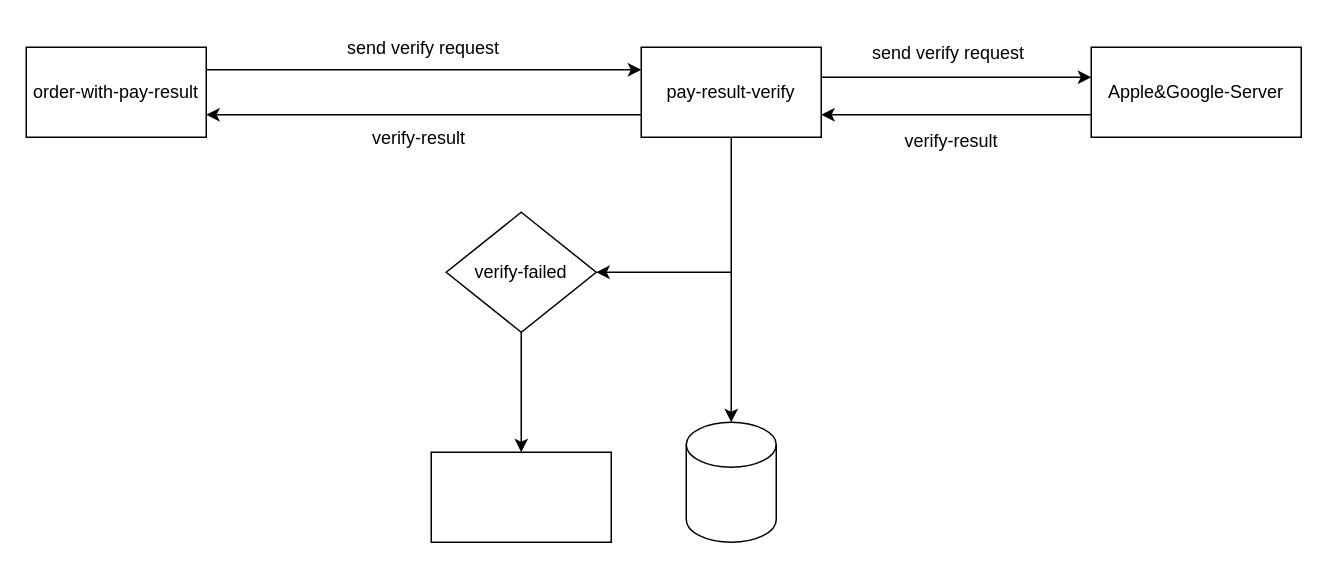
This 1328x569 diagram has some shape labels left out. The centre of each missing label's shape, as x and y in pixels:
Redis-DB: the point at 730,481
send email: the point at 520,496
